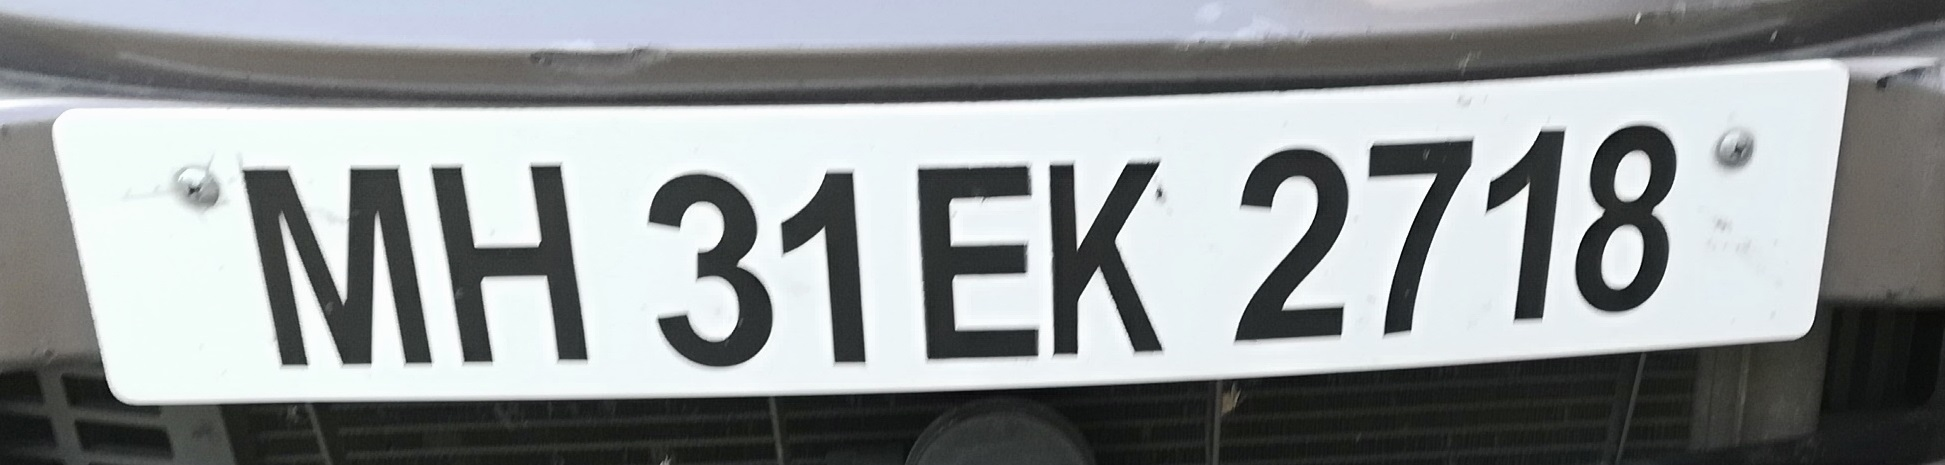numberplate: (42, 60, 1847, 405)
